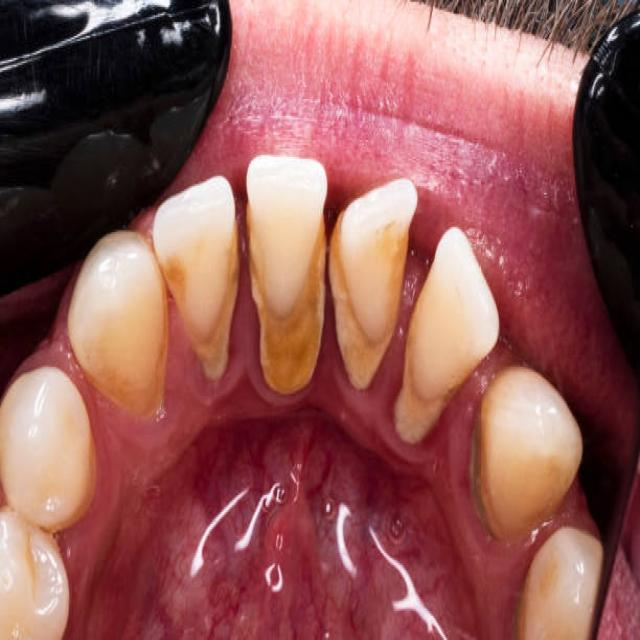calculus: (232, 191, 326, 392), (466, 366, 532, 550), (330, 215, 398, 393), (400, 281, 458, 457), (165, 262, 242, 385), (83, 344, 177, 422), (60, 440, 100, 548), (500, 565, 536, 640)
